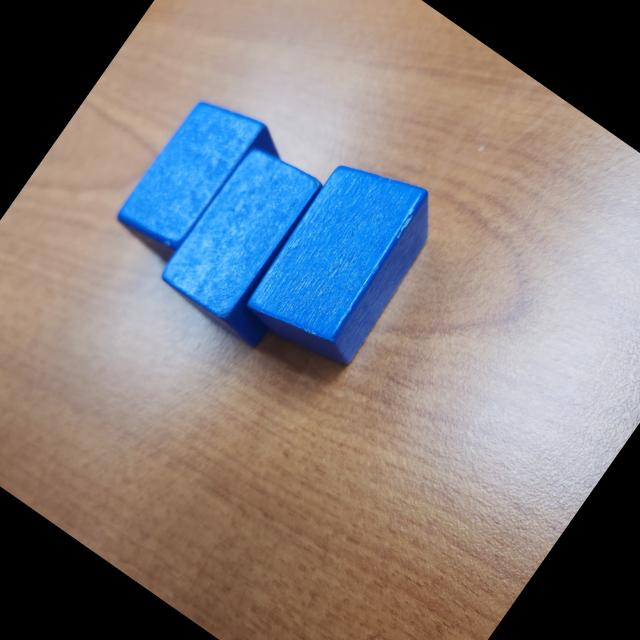blue: (232, 140, 456, 386), (152, 134, 356, 351), (109, 82, 294, 283)
